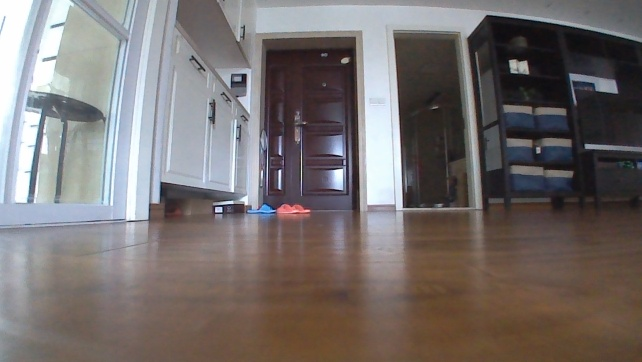TV_stand1: (580, 149, 641, 213)
door_anno: (255, 28, 364, 219)
slipper: (244, 201, 276, 215), (275, 202, 298, 215), (292, 203, 310, 214)
